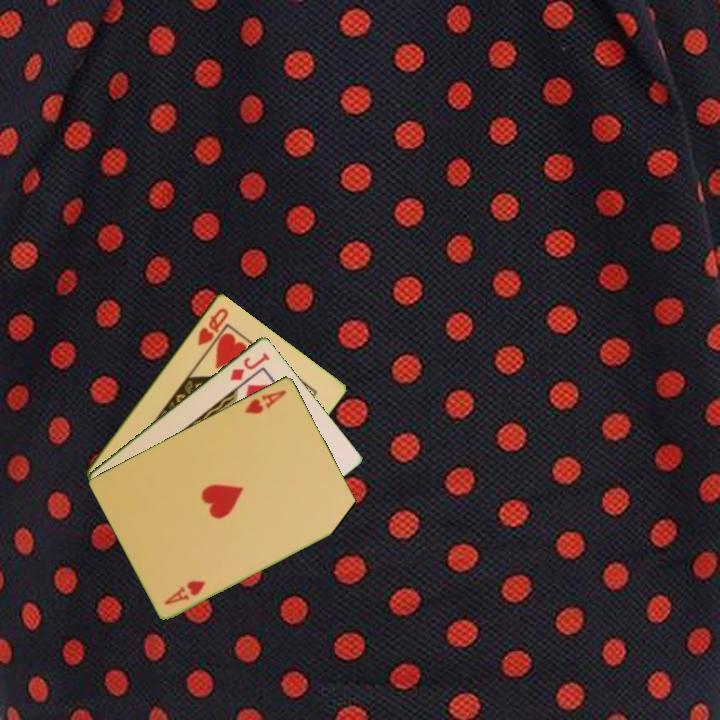Ah: (241, 386, 289, 417), (161, 576, 208, 607)
Jd: (226, 348, 273, 384)
Qh: (194, 304, 231, 348)
